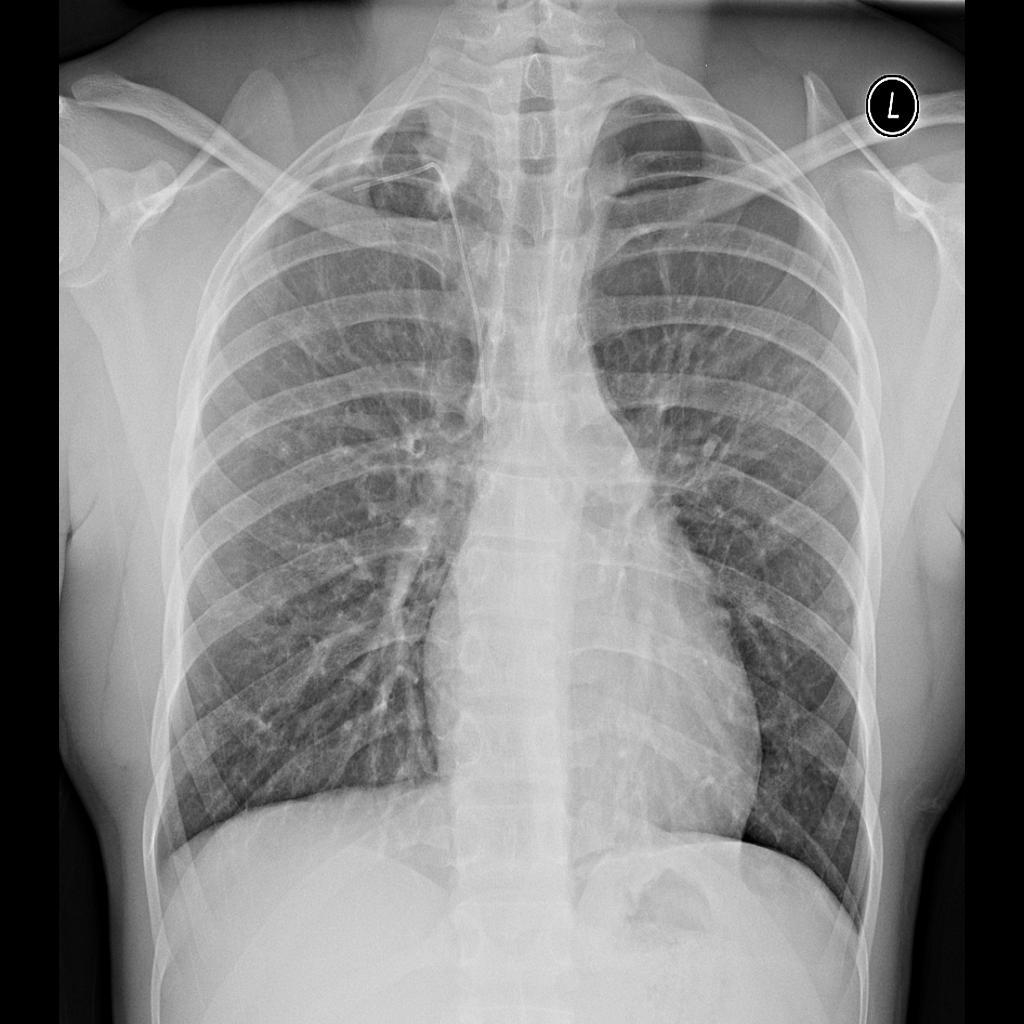Nodule: (391, 140, 488, 226)
